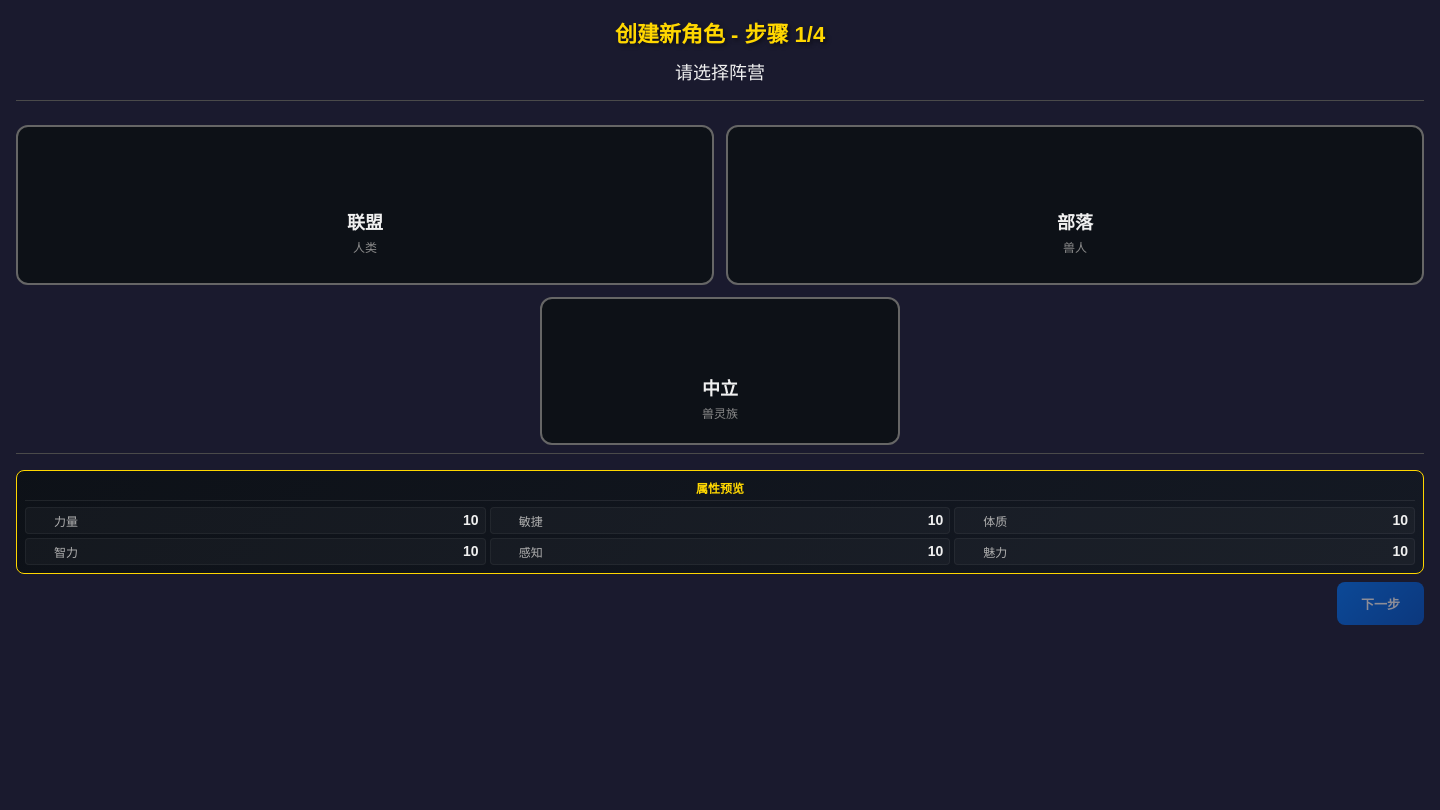
CharacterCreate 角色创建组件 › 基础数据驱动渲染 › 选择阵营后步骤2渲染该阵营下的种族卡片
// 选 alliance
Click the button with class "main-faction" showing "联盟 人类". click: coordinates (365, 173)
box: top-left (16, 125), bottom-right (714, 285)
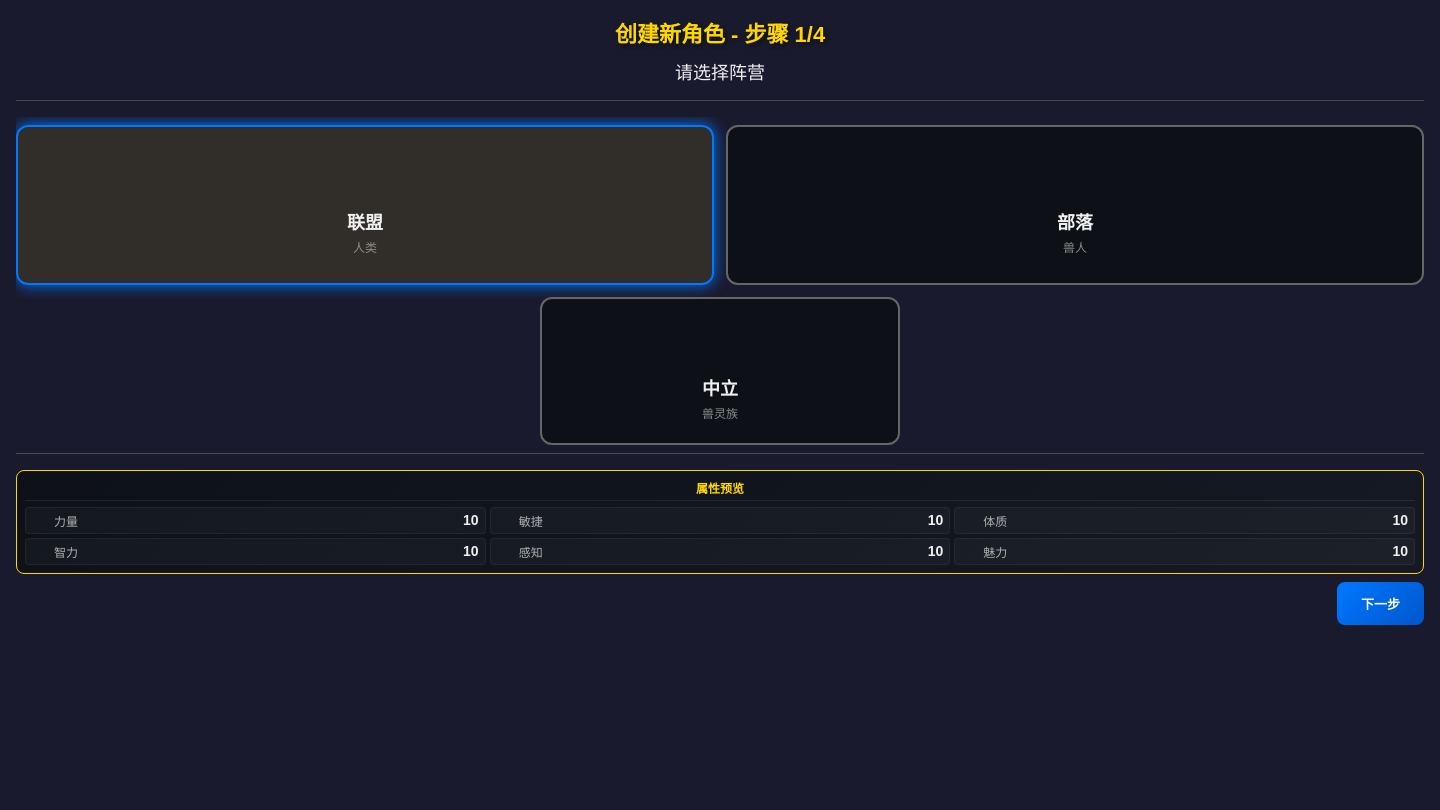
Click the button with class "next". click: coordinates (1380, 603)
box: top-left (1337, 582), bottom-right (1424, 625)
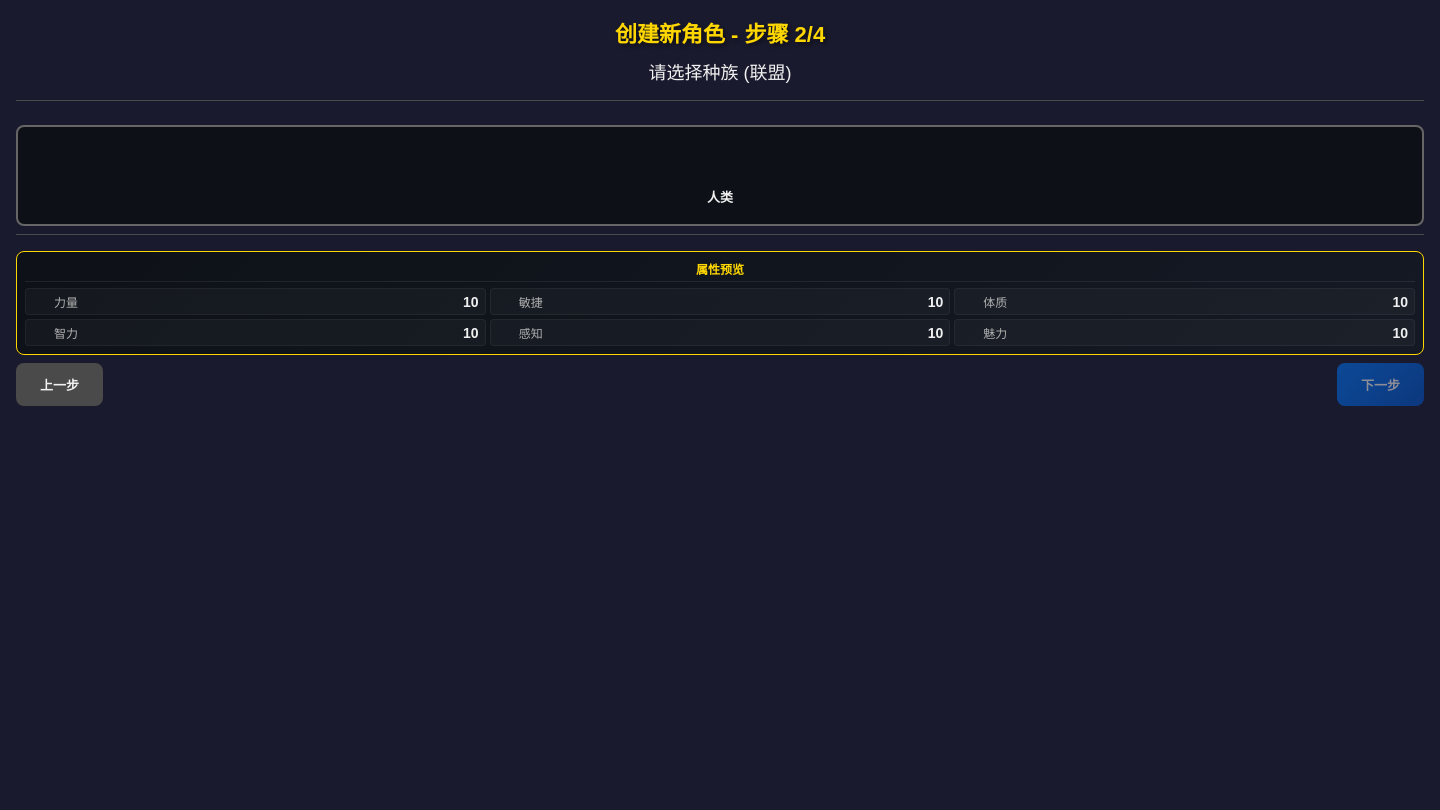
expect the text with class "race-name" reads "人类": met, box top-left (707, 190), bottom-right (733, 205)
expect the number of buttons with class "race-card" is 1: met, box top-left (16, 125), bottom-right (1424, 226)
